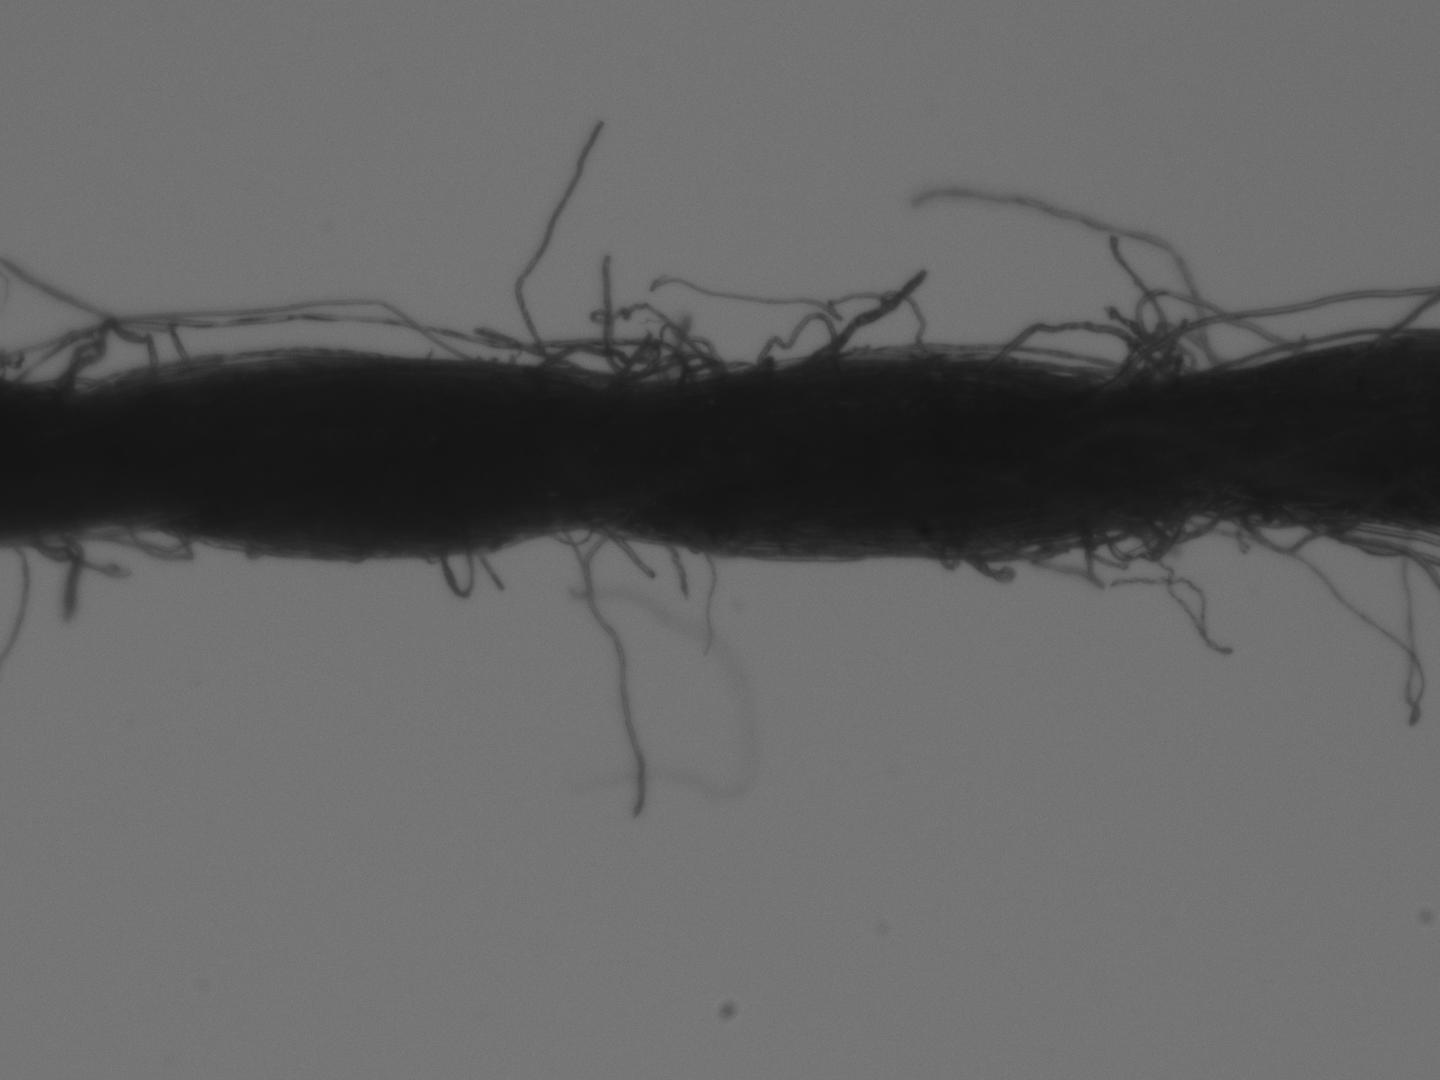loop_fiber: (14, 314, 576, 383), (1116, 287, 1308, 382), (983, 318, 1168, 386), (971, 515, 1133, 564), (49, 319, 151, 388), (1234, 505, 1358, 551), (535, 339, 663, 382), (754, 311, 837, 376), (1090, 511, 1175, 564), (1142, 506, 1230, 541), (122, 517, 194, 556), (632, 355, 723, 381), (434, 548, 475, 599), (543, 528, 596, 545)
protruding_fiber: (507, 123, 607, 374), (1113, 236, 1178, 378), (598, 525, 654, 580), (702, 545, 719, 655), (603, 253, 618, 373), (661, 542, 688, 601)
